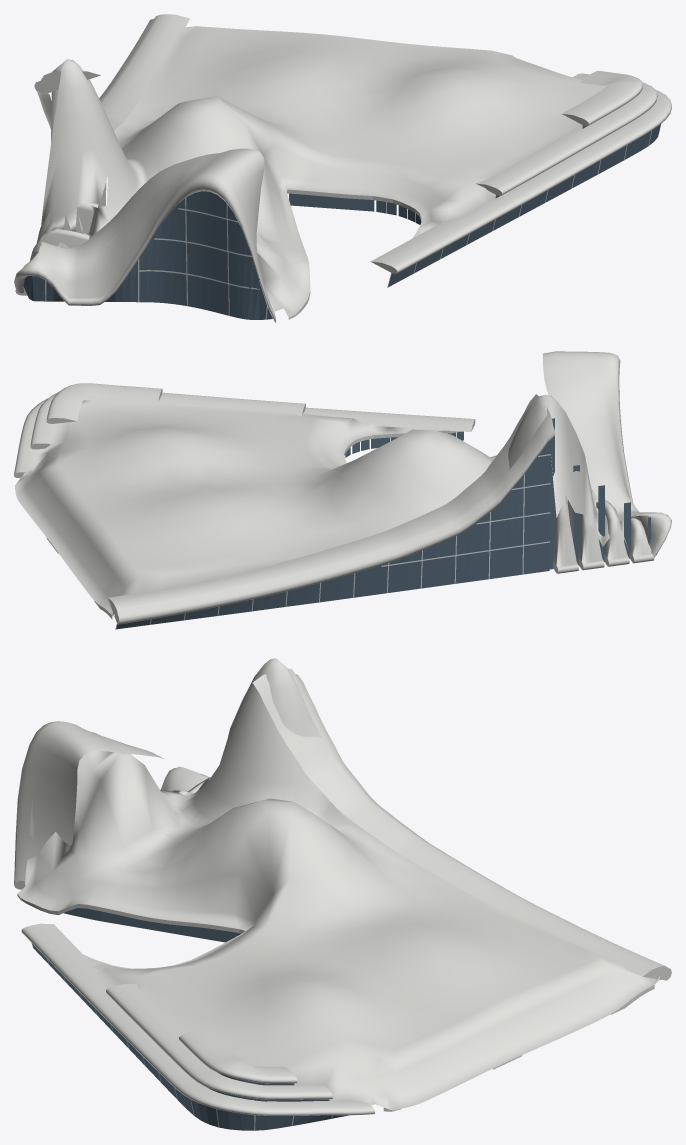
The model's file is baku-heydar-aliyev-center.glb.
3 renders of one model, top to bottom at view 1: azimuth 30°, elevation 25°; view 2: azimuth 150°, elevation 25°; view 3: azimuth 270°, elevation 25°, orthographic. The views are drawn at different scales.
Parts seen in each view (by area): view 1: Heydar Aliyev Center; view 2: Heydar Aliyev Center; view 3: Heydar Aliyev Center.
Boxes of the visible parts, x1,y1,x2,y2 form: Heydar Aliyev Center: (14,14,671,322); Heydar Aliyev Center: (14,351,671,629); Heydar Aliyev Center: (14,658,671,1130).
Size of the model in its own units: 216 by 58 by 180.
